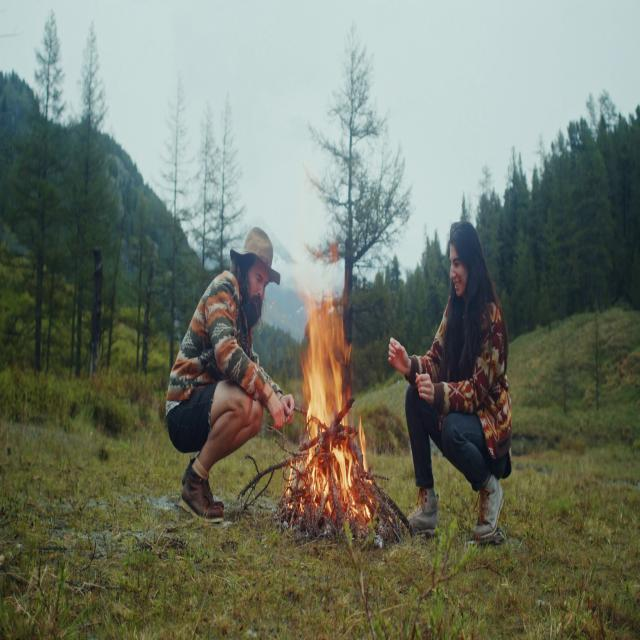Fire: (293, 288, 376, 516)
